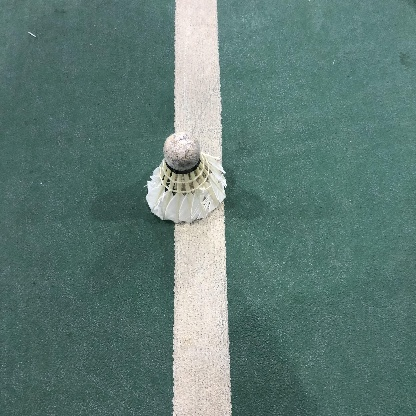ball_single: (146, 132, 227, 223)
